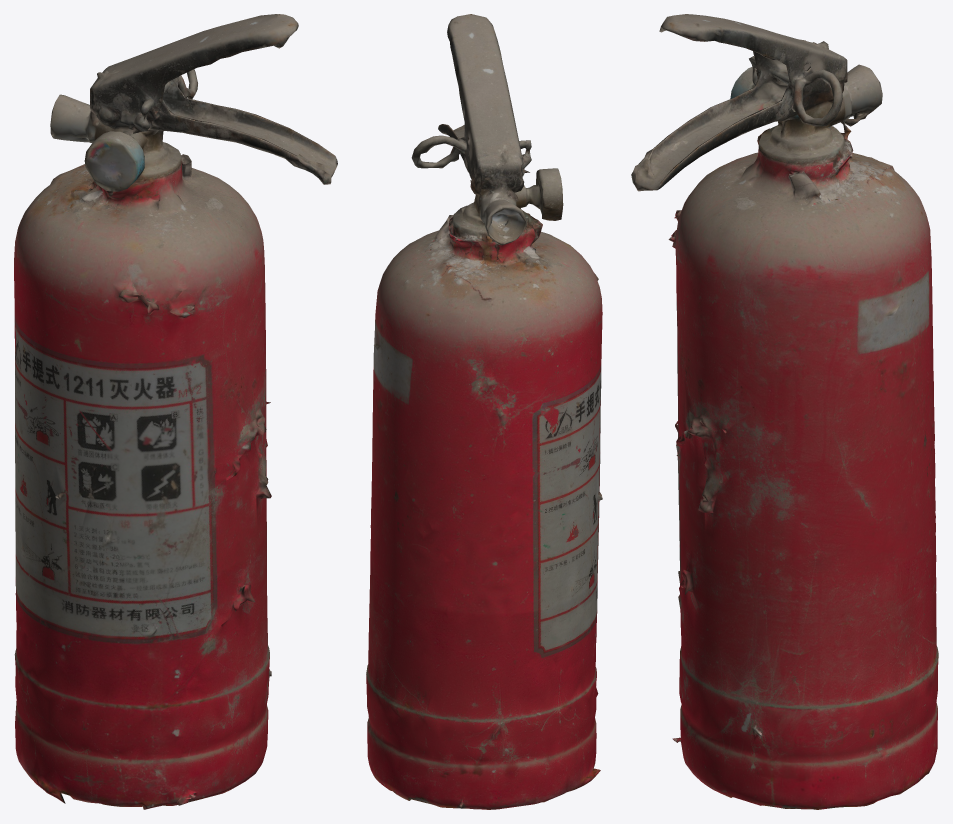
Rendered from PX_Fire_Extinguisher_01_LOD3.fbx.
3 views of the same model, side by side, from view 1: azimuth 30°, elevation 25°; view 2: azimuth 150°, elevation 25°; view 3: azimuth 270°, elevation 25° (orthographic). The views are drawn at different scales.
Visible parts, largest first — view 1: PX_Fire_Extinguisher_01_LOD3; view 2: PX_Fire_Extinguisher_01_LOD3; view 3: PX_Fire_Extinguisher_01_LOD3.
Boxes of the visible parts, box(x1,y1,x2,y2) form: PX_Fire_Extinguisher_01_LOD3: box(14, 14, 337, 809); PX_Fire_Extinguisher_01_LOD3: box(366, 14, 602, 809); PX_Fire_Extinguisher_01_LOD3: box(631, 14, 938, 809).
Bounding box in the file's own units: 9.11 × 28.26 × 10.11.
